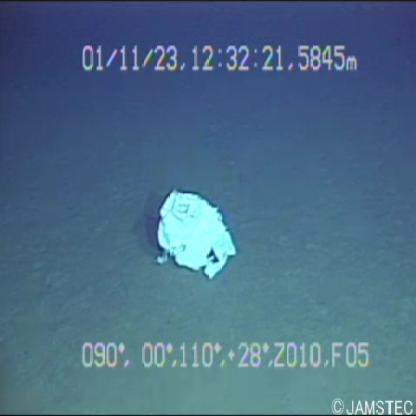Rác: (144, 181, 248, 286)
